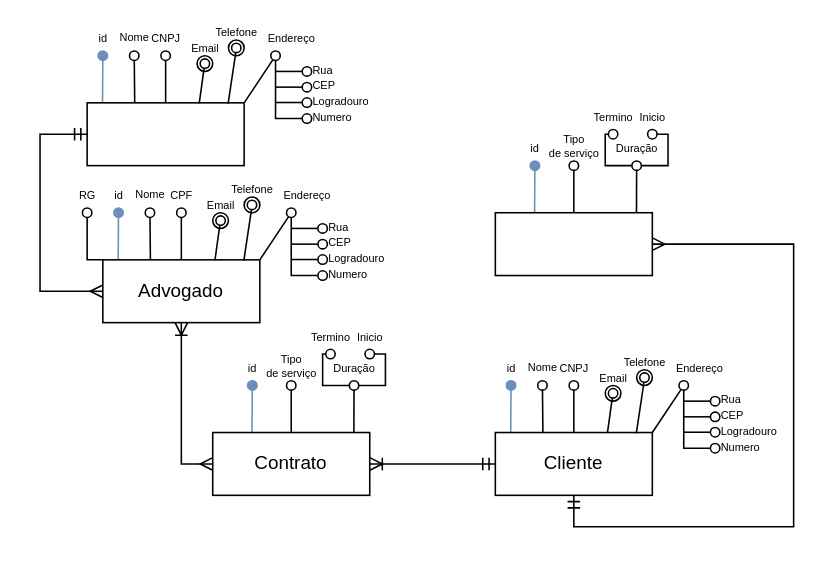
The diagram is 835 pixels wide and 568 high, and some of its shapes have lost their labels. Each missing label, with the centre of its shape:
Empresa: (x=165, y=133)
Histórico: (x=573, y=243)
